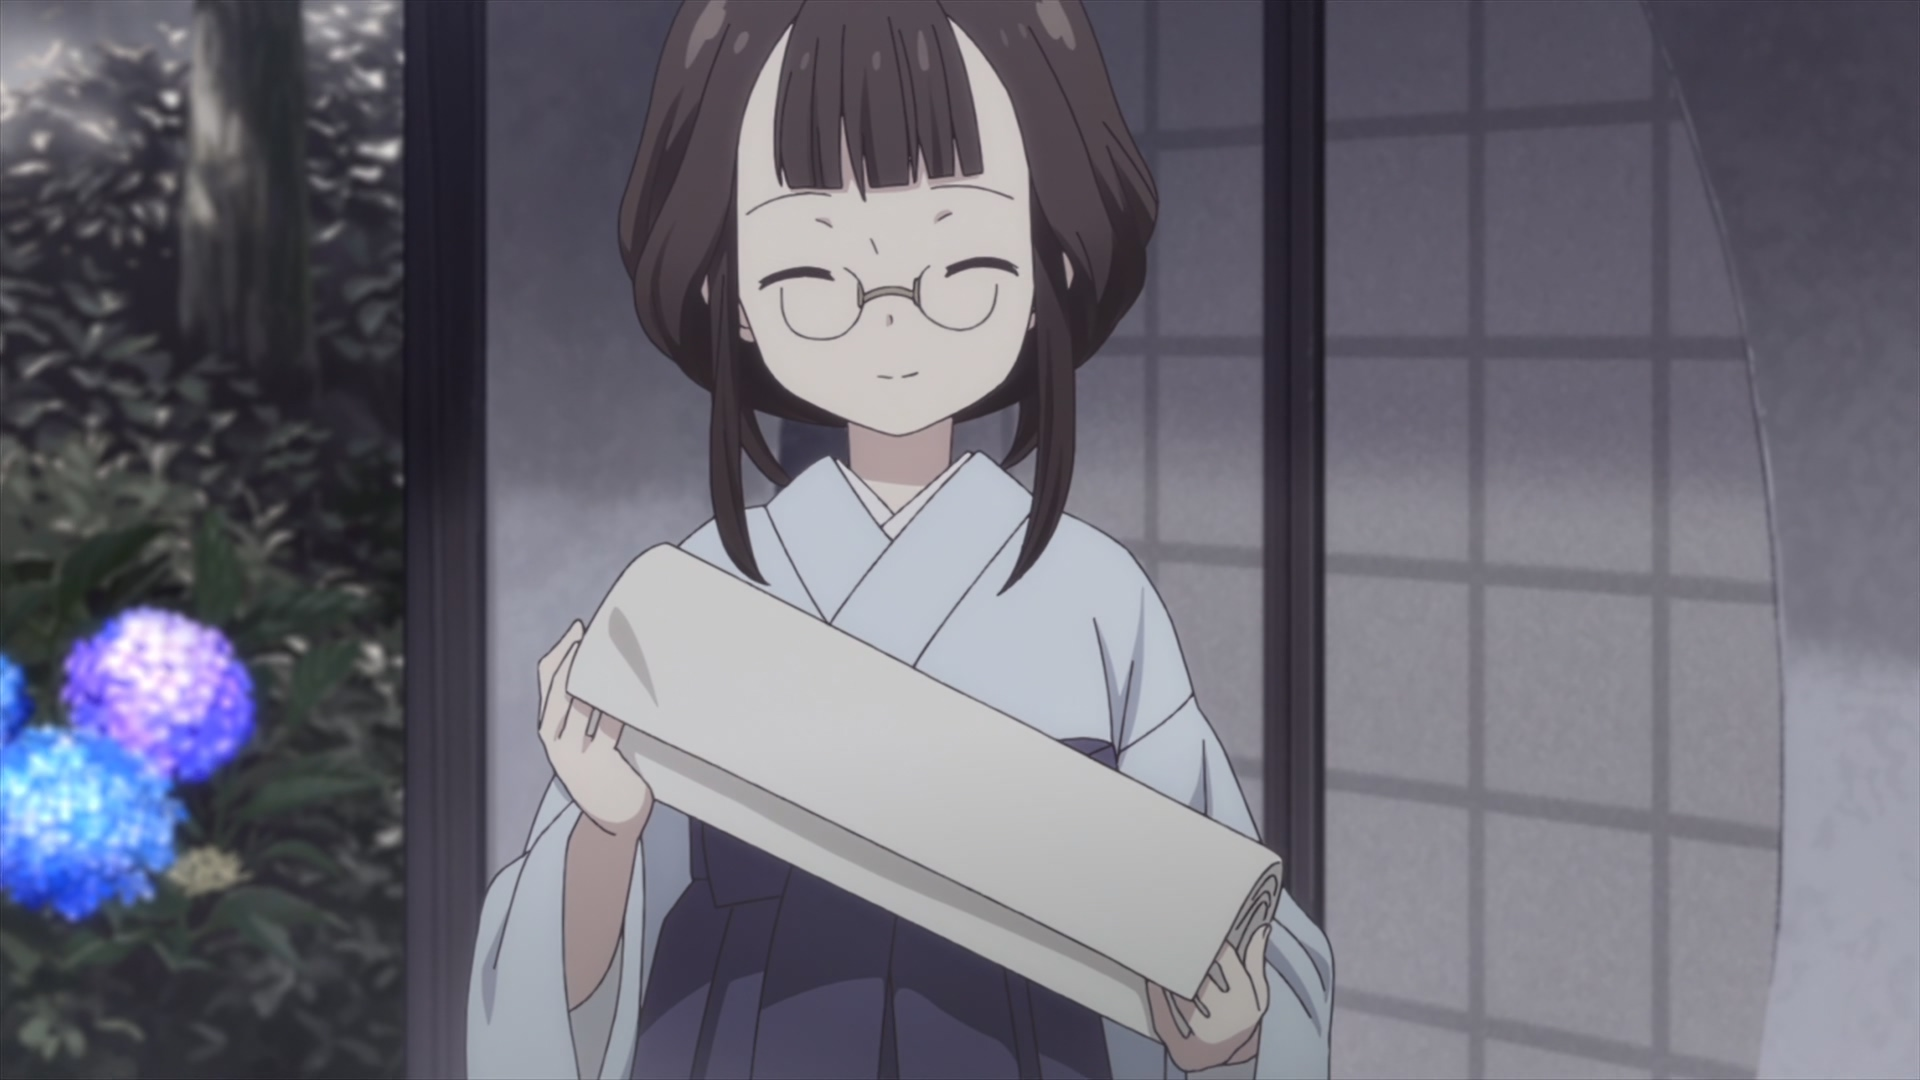其他: (465, 1, 1336, 1080)
